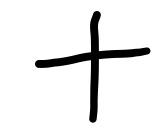plus: (35, 10, 152, 123)
